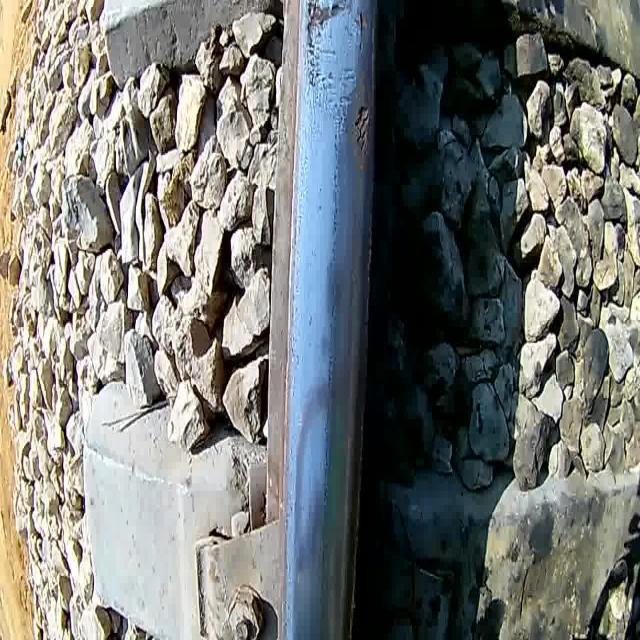Spallings: (303, 0, 349, 91), (351, 98, 373, 159), (356, 6, 368, 58)
Squats: (344, 61, 377, 179)
